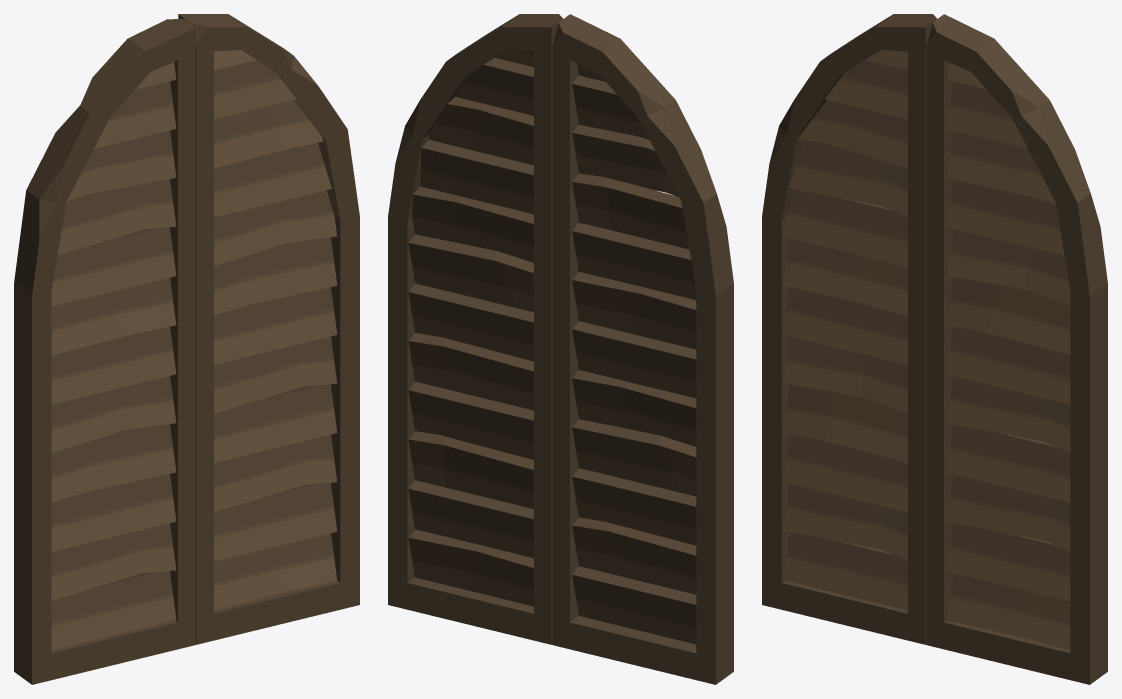
Rendered from SM_Bld_Window_Shutter_01.fbx.
The picture shows the model from 3 angles, left to right: view 1: azimuth 30°, elevation 25°; view 2: azimuth 150°, elevation 25°; view 3: azimuth 330°, elevation 25°; orthographic projection.
Visible parts, largest first — view 1: SM_Bld_Window_Shutter_Left_01, SM_Bld_Window_Shutter_Right_01; view 2: SM_Bld_Window_Shutter_Left_01, SM_Bld_Window_Shutter_Right_01; view 3: SM_Bld_Window_Shutter_Right_01, SM_Bld_Window_Shutter_Left_01.
Part boxes in pixels (x1=…): SM_Bld_Window_Shutter_Left_01: x1=14, y1=19, x2=195, y2=684; SM_Bld_Window_Shutter_Right_01: x1=178, y1=14, x2=359, y2=644; SM_Bld_Window_Shutter_Left_01: x1=552, y1=14, x2=733, y2=684; SM_Bld_Window_Shutter_Right_01: x1=388, y1=14, x2=562, y2=644; SM_Bld_Window_Shutter_Right_01: x1=926, y1=14, x2=1107, y2=684; SM_Bld_Window_Shutter_Left_01: x1=762, y1=14, x2=936, y2=644.
Bounding box in the file's own units: 105 × 189 × 9.98.
Materials: 1 (1 with a texture image).
